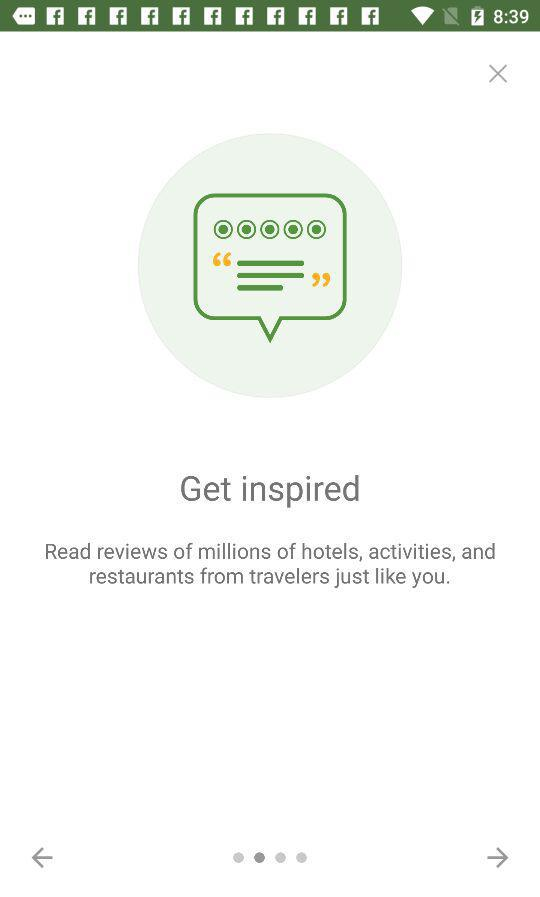Icon: (487, 847, 509, 869), (32, 847, 54, 869), (489, 64, 508, 84)
Image: (138, 134, 403, 399)
PageIndicator: (232, 851, 308, 864)
Text: (47, 542, 496, 589), (181, 475, 360, 509)
UpperTaskBar: (1, 1, 540, 33)
